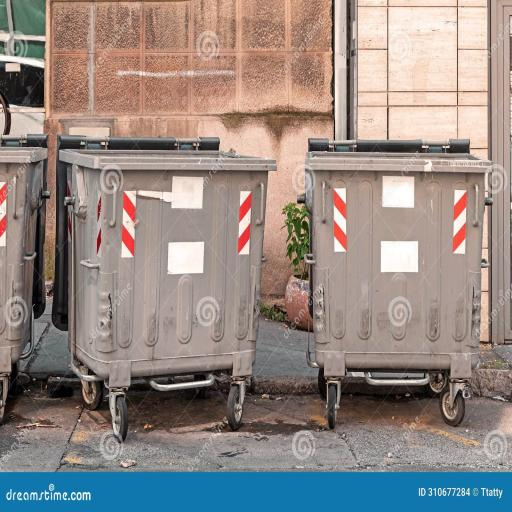Contenedor_Vacio: (61, 149, 276, 419), (300, 150, 491, 409)
